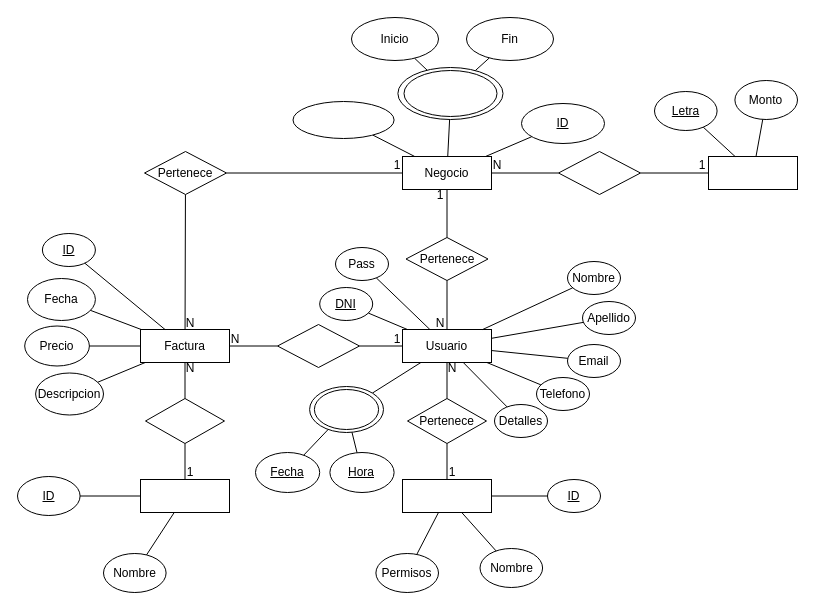
The diagram is 815 pixels wide and 610 high, and some of its shapes have lost their labels. Here are the shapes that lost their labels. From the top down, the box of each, then its label:
(403, 70, 497, 116): Vacaciones
(292, 100, 394, 138): DiasSemanales
(558, 150, 640, 194): Tiene
(708, 156, 798, 190): Categoria
(276, 324, 360, 368): Hace
(144, 398, 224, 444): Posee
(313, 388, 379, 430): LogIns
(140, 478, 230, 512): TipoPago
(402, 478, 492, 512): TipoUsuario
